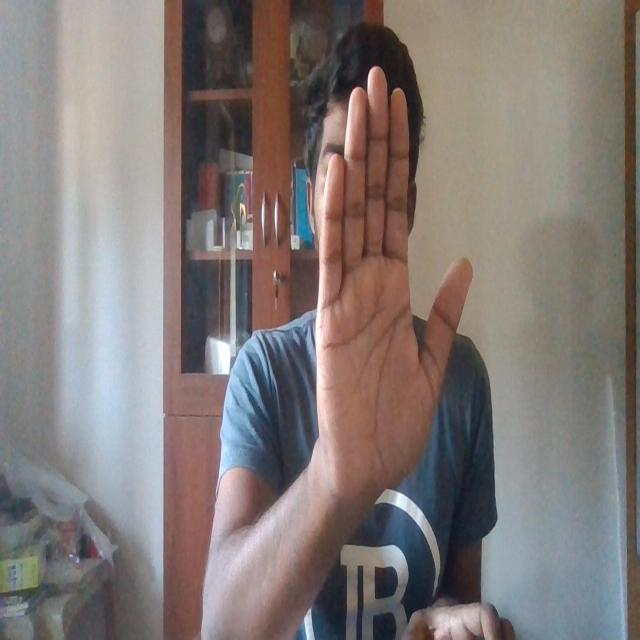Hello: (312, 60, 474, 511)
